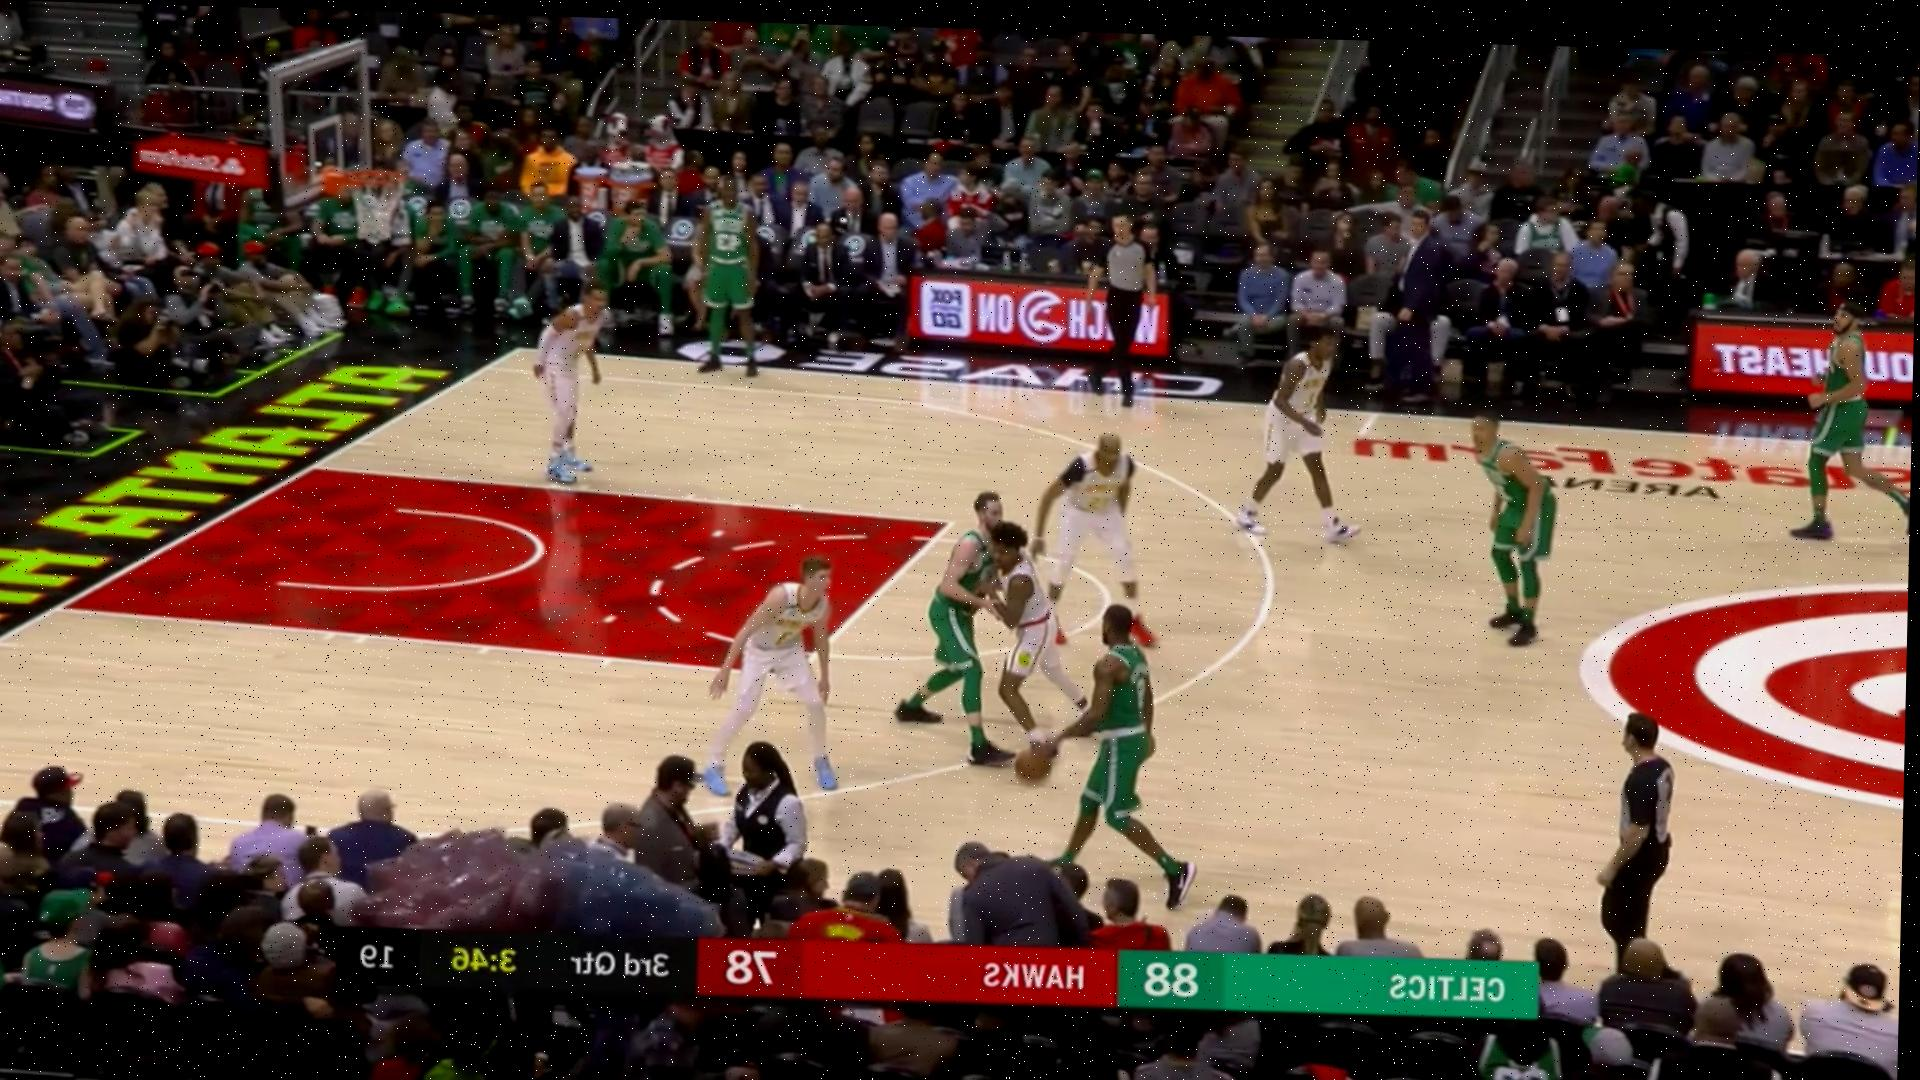no_foul: (895, 484, 1050, 728)
